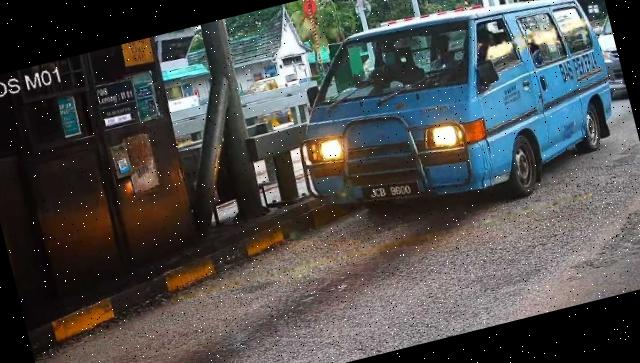License_Plate: (361, 173, 425, 211)
van: (274, 1, 631, 248)
